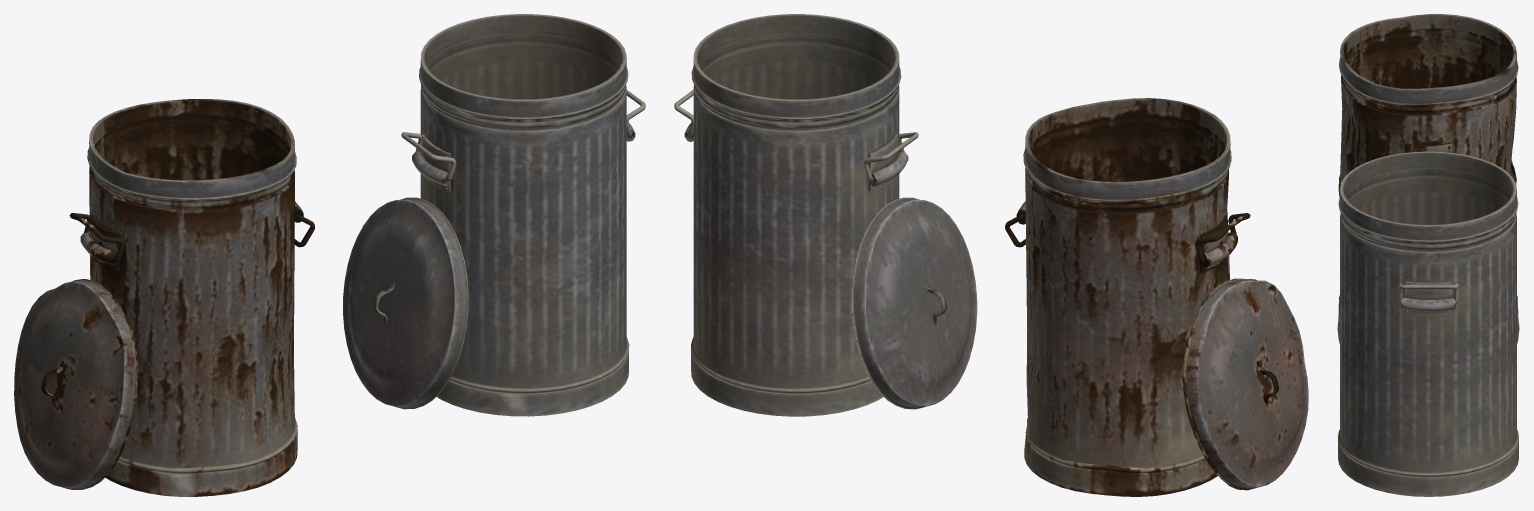
Rendered from metal_trash_can.glb.
3 views of the same model, side by side, from view 1: azimuth 30°, elevation 25°; view 2: azimuth 150°, elevation 25°; view 3: azimuth 270°, elevation 25° (orthographic). The views are drawn at different scales.
Size of the model in its own units: 1.78 by 0.9062 by 0.5543.
Materials: 2 (2 with a texture image).
